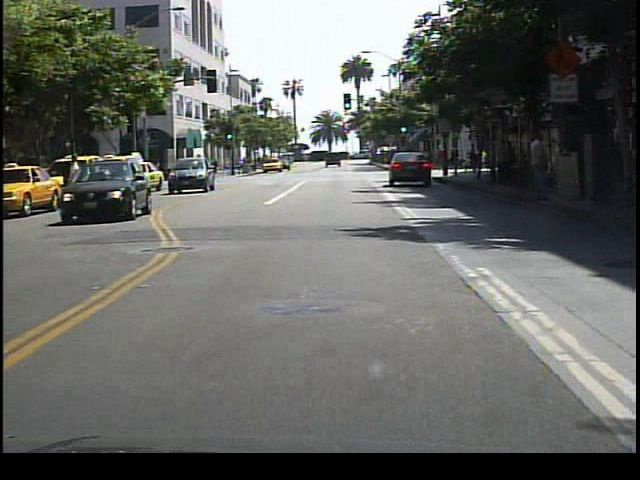person: (524, 129, 553, 207), (64, 148, 86, 208)
